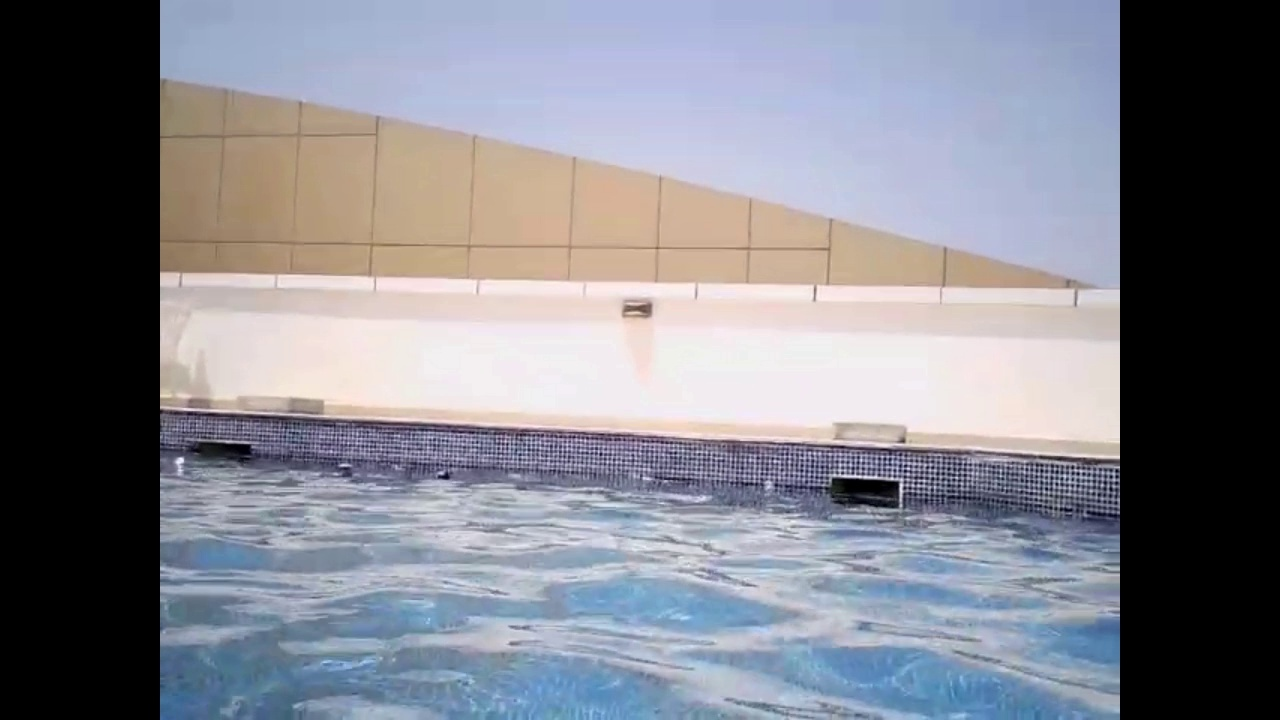debris: (760, 475, 779, 496), (434, 466, 456, 481), (173, 455, 190, 474), (335, 458, 354, 475)
